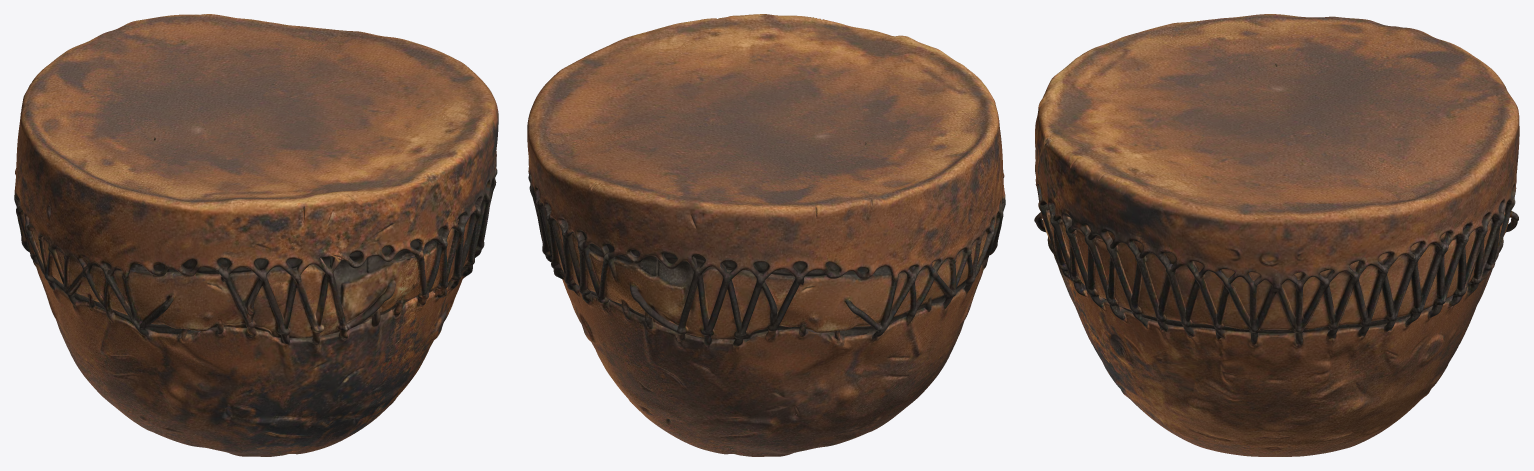
File: negarit.glb
3 views of the same model, side by side, from view 1: azimuth 30°, elevation 25°; view 2: azimuth 150°, elevation 25°; view 3: azimuth 270°, elevation 25° (orthographic). The views are drawn at different scales.
Visible parts, largest first — view 1: tripo_node_bedb0ac8-3746-4bfc-91fe-492f84416543; view 2: tripo_node_bedb0ac8-3746-4bfc-91fe-492f84416543; view 3: tripo_node_bedb0ac8-3746-4bfc-91fe-492f84416543.
Part boxes in pixels (box(x1,y1,x2,y2)): tripo_node_bedb0ac8-3746-4bfc-91fe-492f84416543: box(14, 14, 498, 456); tripo_node_bedb0ac8-3746-4bfc-91fe-492f84416543: box(527, 14, 1005, 456); tripo_node_bedb0ac8-3746-4bfc-91fe-492f84416543: box(1034, 14, 1519, 456).
Size of the model in its own units: 0.9794 by 0.6887 by 0.9699.
1 material, 1 textured.
